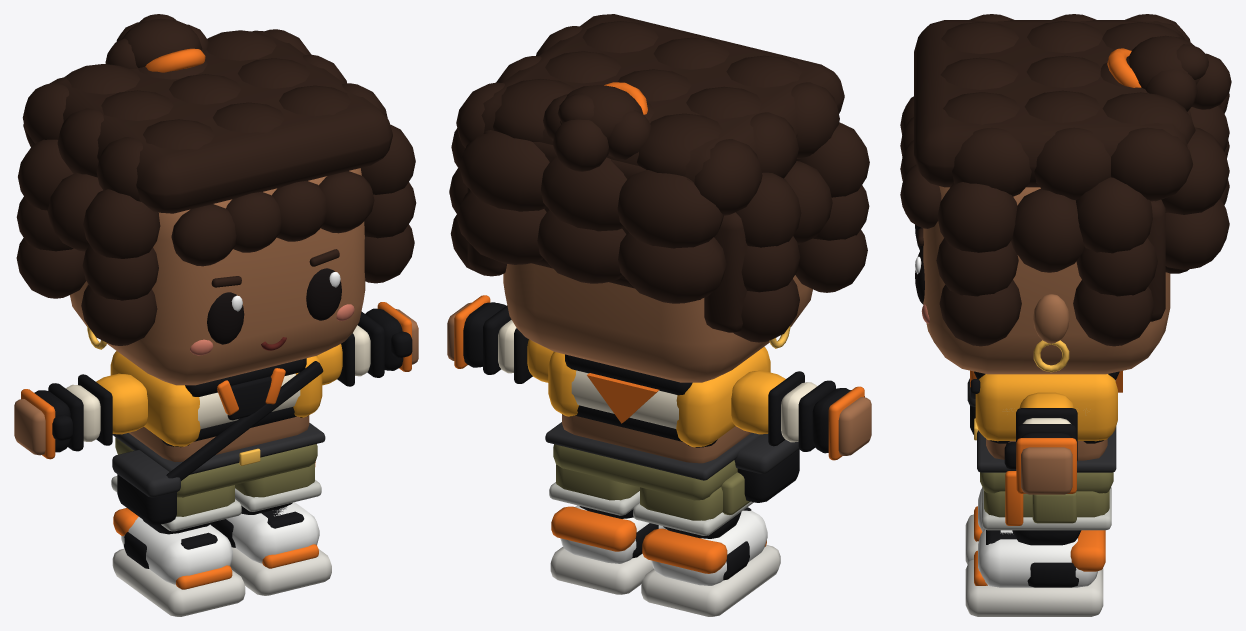
Rendered from yun_urban_chibi_v06.glb.
The picture shows the model from 3 angles, left to right: view 1: azimuth 30°, elevation 25°; view 2: azimuth 150°, elevation 25°; view 3: azimuth 270°, elevation 25°; orthographic projection. The views are drawn at different scales.
Visible parts, largest first — view 1: Hair_Curls, Head, Shoe_R, Shorts, Shoe_L, Jacket, Arm_R, Bag, Hair_Ponytail, Hand_R, Arm_L, Eyes (+8 smaller); view 2: Hair_Curls, Head, Shorts, Shoe_R, Jacket, Shoe_L, Hair_Ponytail, Arm_R, Hand_R, Torso, Arm_L, Belt (+4 smaller); view 3: Hair_Curls, Head, Shoe_L, Jacket, Shorts, Hair_Ponytail, Hand_L, Arm_L, Belt, Leg_L, Hip_Strap, Scrunchie (+4 smaller).
Part boxes in pixels (<box>): Hair_Curls: <box>16,29,416,345</box>; Head: <box>70,168,365,385</box>; Shoe_R: <box>112,508,245,616</box>; Shorts: <box>111,437,321,531</box>; Shoe_L: <box>210,502,331,595</box>; Jacket: <box>110,351,322,446</box>; Arm_R: <box>48,373,147,451</box>; Bag: <box>112,450,180,524</box>; Hair_Ponytail: <box>105,14,208,68</box>; Hand_R: <box>14,389,72,459</box>; Arm_L: <box>317,311,384,386</box>; Eyes: <box>207,268,341,344</box>; Hair_Curls: <box>449,14,869,342</box>; Head: <box>503,263,812,382</box>; Shorts: <box>549,444,753,535</box>; Shoe_R: <box>641,507,780,616</box>; Jacket: <box>548,346,770,447</box>; Shoe_L: <box>550,505,665,594</box>; Hair_Ponytail: <box>543,85,651,171</box>; Arm_R: <box>731,370,835,451</box>; Hand_R: <box>812,386,871,460</box>; Torso: <box>562,414,751,463</box>; Arm_L: <box>483,305,553,383</box>; Belt: <box>545,422,761,480</box>; Hair_Curls: <box>900,14,1229,346</box>; Head: <box>923,186,1170,374</box>; Shoe_L: <box>965,529,1105,616</box>; Jacket: <box>975,370,1122,441</box>; Shorts: <box>980,472,1113,530</box>; Hair_Ponytail: <box>1126,35,1231,111</box>; Hand_L: <box>1004,432,1076,494</box>; Arm_L: <box>1016,392,1077,460</box>; Belt: <box>974,418,1116,472</box>; Leg_L: <box>1012,530,1081,545</box>; Hip_Strap: <box>1005,471,1023,525</box>; Scrunchie: <box>1107,48,1141,87</box>.
Size of the model in its own units: 0.5313 by 0.672 by 0.3747.
